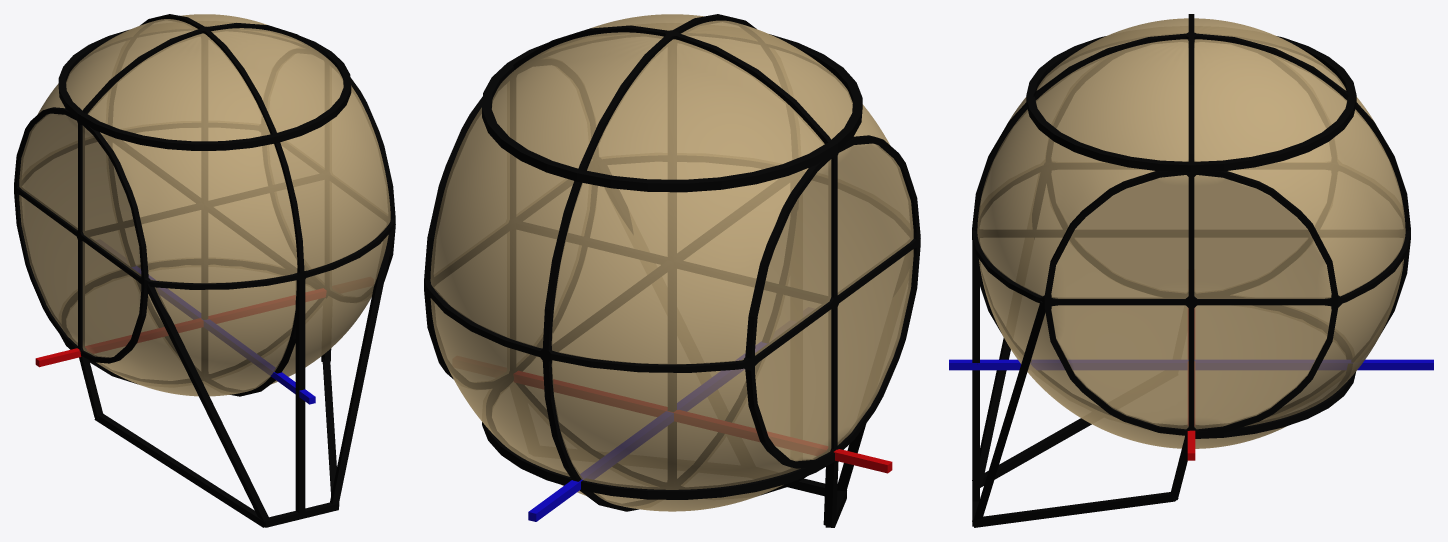
The model's file is LoomisHead.glb.
3 renders of one model, left to right at view 1: azimuth 30°, elevation 25°; view 2: azimuth 150°, elevation 25°; view 3: azimuth 270°, elevation 25°, orthographic. The views are drawn at different scales.
Parts seen in each view (by area): view 1: Loomis_Head_Animmation.001, Sphere.018, Plane.013, Circle.004, Plane.012, Plane.009, Plane.007, Plane.008, Circle.005, Plane.011, Plane.010; view 2: Loomis_Head_Animmation.001, Sphere.018, Circle.004, Circle.005, Plane.007, Plane.008, Plane.013, Plane.011; view 3: Loomis_Head_Animmation.001, Sphere.018, Circle.004, Plane.008, Plane.013, Plane.012, Circle.005, Plane.009.
Part boxes in pixels (bbox=[...]): Loomis_Head_Animmation.001: bbox=[19, 14, 390, 396]; Sphere.018: bbox=[14, 14, 395, 396]; Plane.013: bbox=[146, 223, 395, 521]; Circle.004: bbox=[58, 29, 351, 150]; Plane.012: bbox=[94, 358, 339, 527]; Plane.009: bbox=[295, 280, 305, 514]; Plane.007: bbox=[35, 288, 325, 367]; Plane.008: bbox=[132, 266, 315, 404]; Circle.005: bbox=[60, 259, 322, 349]; Plane.011: bbox=[79, 289, 331, 418]; Plane.010: bbox=[264, 502, 338, 527]; Loomis_Head_Animmation.001: bbox=[430, 14, 913, 511]; Sphere.018: bbox=[424, 14, 920, 511]; Circle.004: bbox=[482, 33, 862, 192]; Circle.005: bbox=[482, 375, 835, 499]; Plane.007: bbox=[513, 371, 892, 473]; Plane.008: bbox=[528, 342, 766, 521]; Plane.013: bbox=[598, 161, 910, 491]; Plane.011: bbox=[514, 369, 838, 527]; Loomis_Head_Animmation.001: bbox=[977, 18, 1405, 448]; Sphere.018: bbox=[972, 14, 1410, 435]; Circle.004: bbox=[1026, 33, 1356, 172]; Plane.008: bbox=[949, 359, 1433, 370]; Plane.013: bbox=[973, 167, 1048, 520]; Plane.012: bbox=[972, 418, 1178, 527]; Circle.005: bbox=[1195, 296, 1355, 438]; Plane.009: bbox=[972, 229, 979, 501].
Size of the model in its own units: 1.98 by 2.37 by 2.2.
